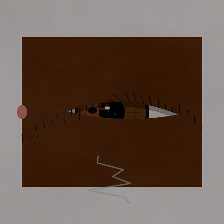foreign_body_visible: (89, 94, 116, 116)
